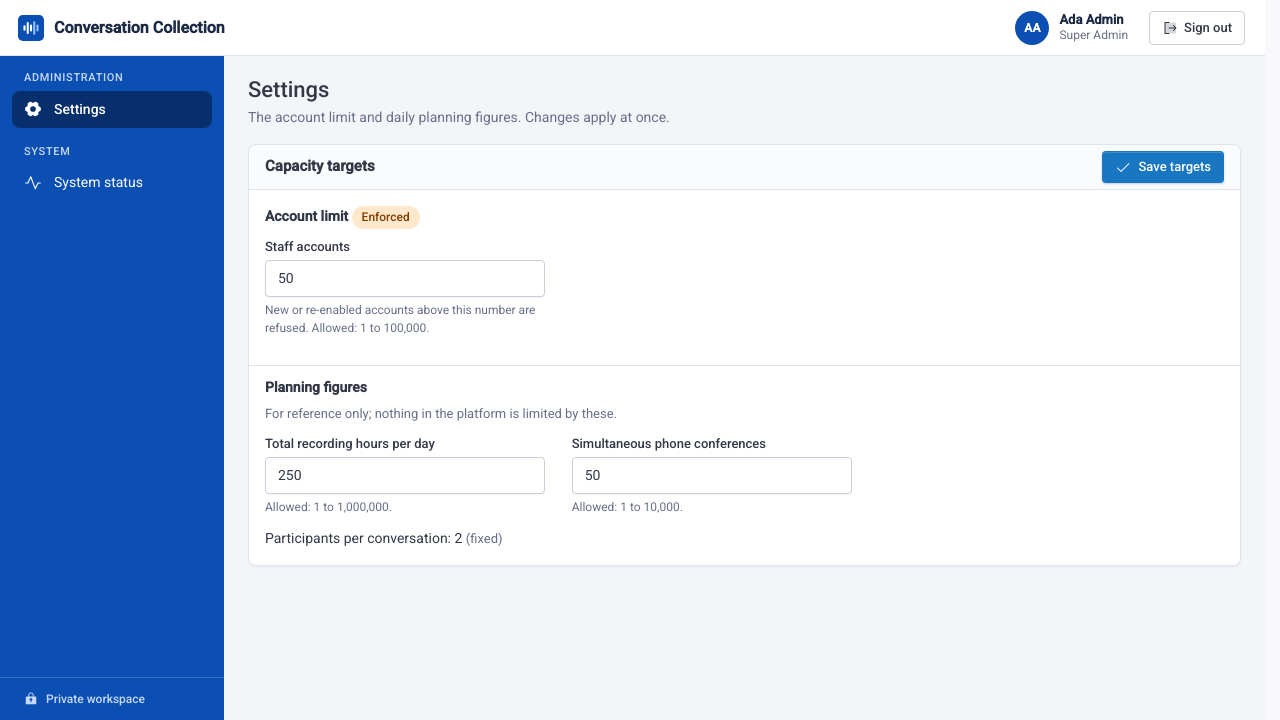
Scenario: SettingsPage › refuses a fraction naming the field, and sends nothing
Step 1. Replace the text in the number field labelled "Staff accounts" with "2.5" → {"x": 405, "y": 279}, box left=265, top=260, right=545, bottom=297
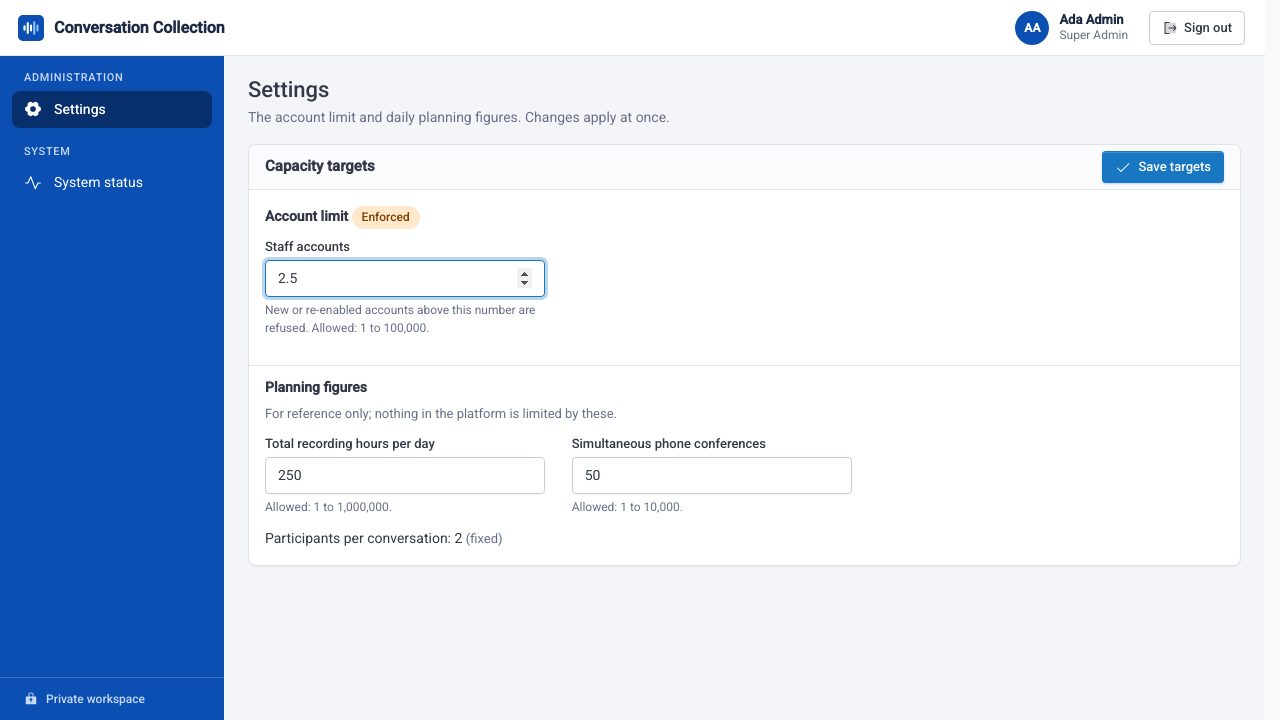
Step 2. Click the button "Save targets" → {"x": 1163, "y": 167}, box left=1102, top=151, right=1224, bottom=183
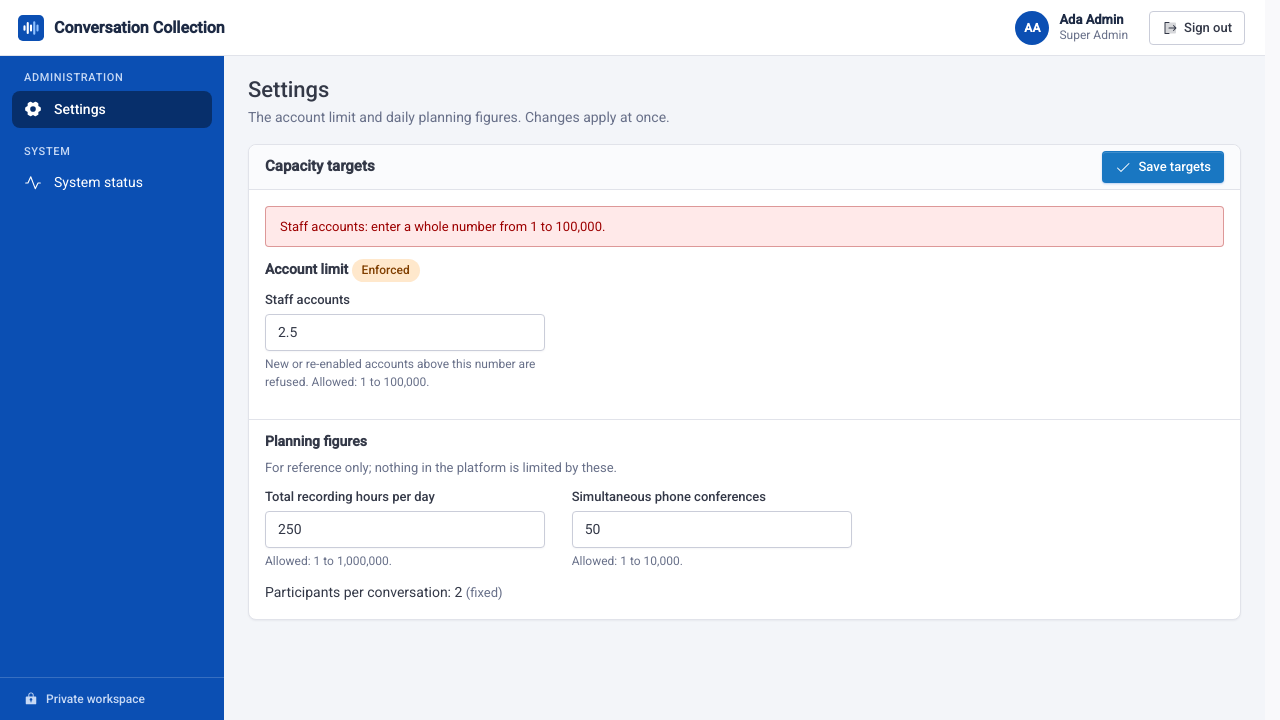
Expected: the text "Staff accounts: enter a whole number from 1 to 100,000." is shown, left=280, top=219, right=605, bottom=234
